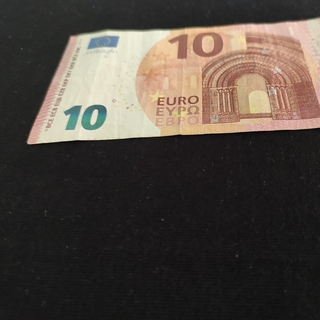10EUROFront: (25, 16, 320, 146)
